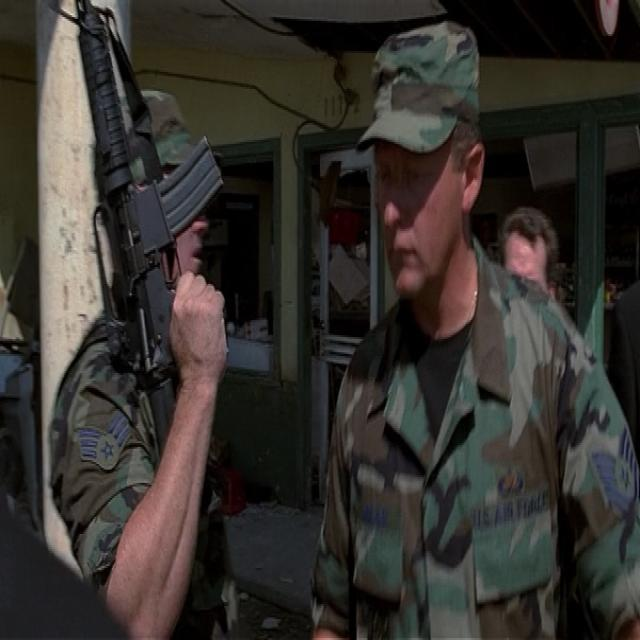rifle: (70, 1, 239, 534)
